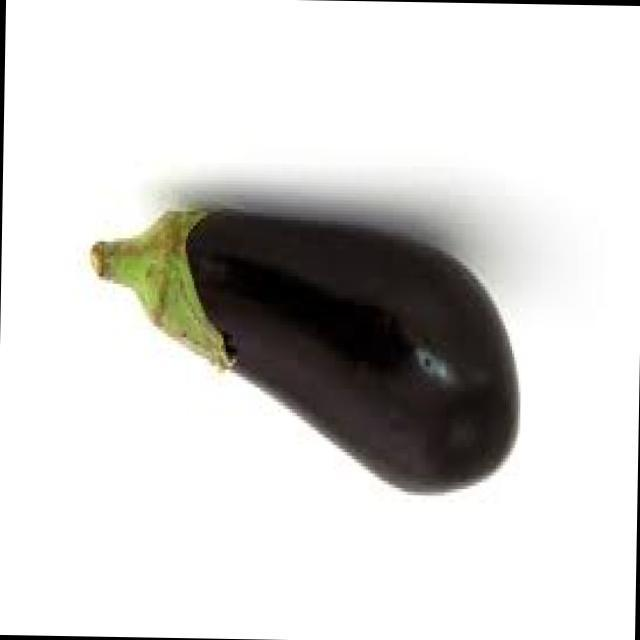Aubergine: (52, 188, 554, 518)
